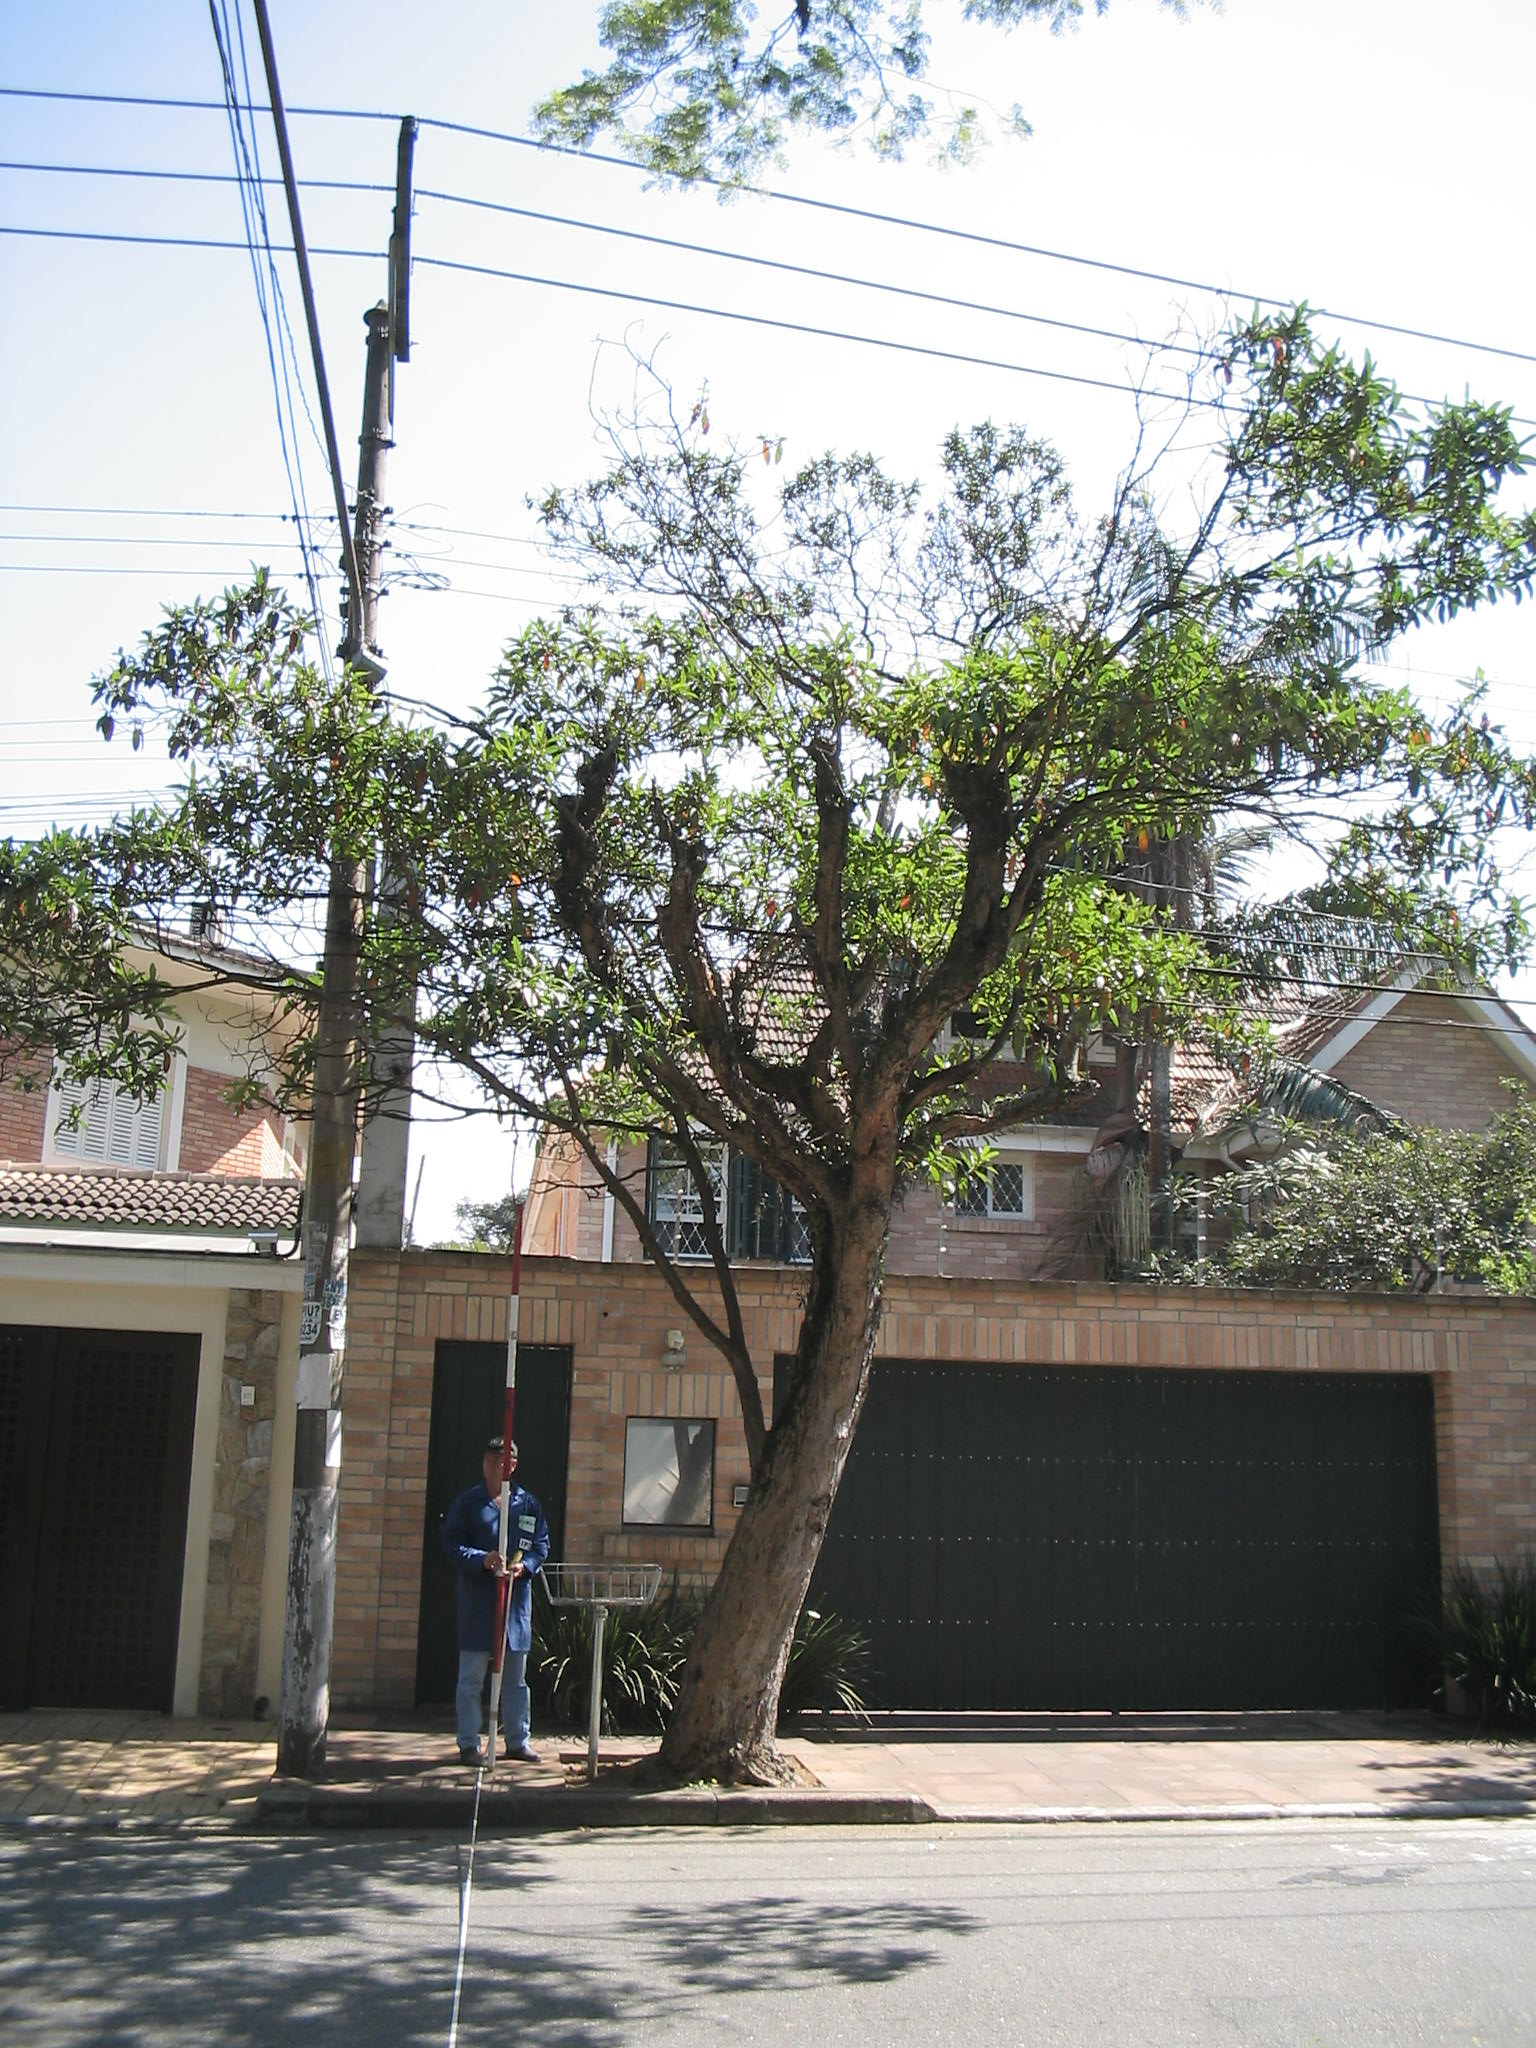crown: (18, 305, 1528, 1213)
stem: (652, 1195, 936, 1775)
stick: (465, 1200, 553, 1763)
tree: (6, 297, 1536, 1780)
